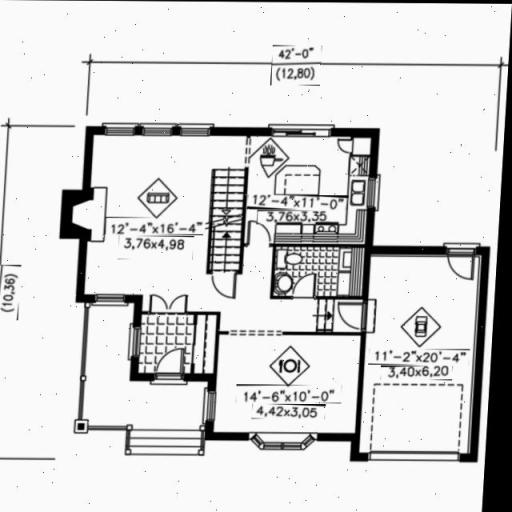Room: (218, 335, 348, 434)
garage: (376, 263, 476, 450)
hall: (104, 139, 221, 294)
kitchen: (246, 142, 356, 325)
